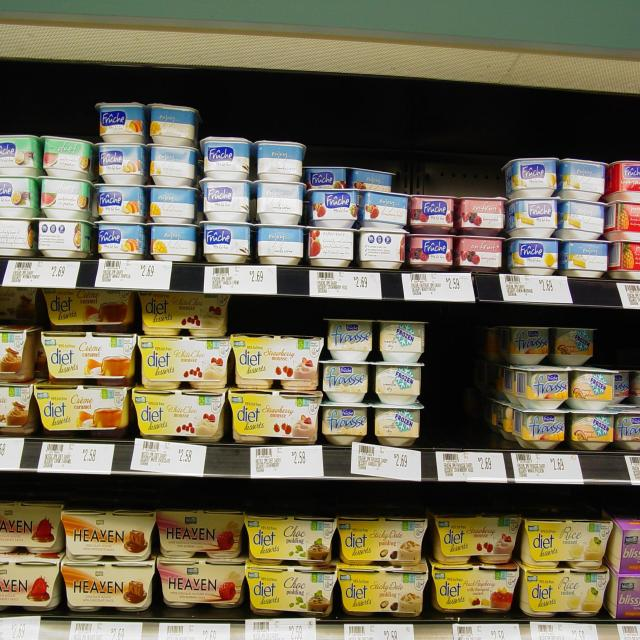void: (417, 98, 512, 196), (426, 322, 486, 448), (321, 87, 412, 166), (511, 102, 633, 160), (206, 75, 318, 138), (4, 65, 98, 134), (100, 64, 202, 103), (232, 298, 328, 333)
